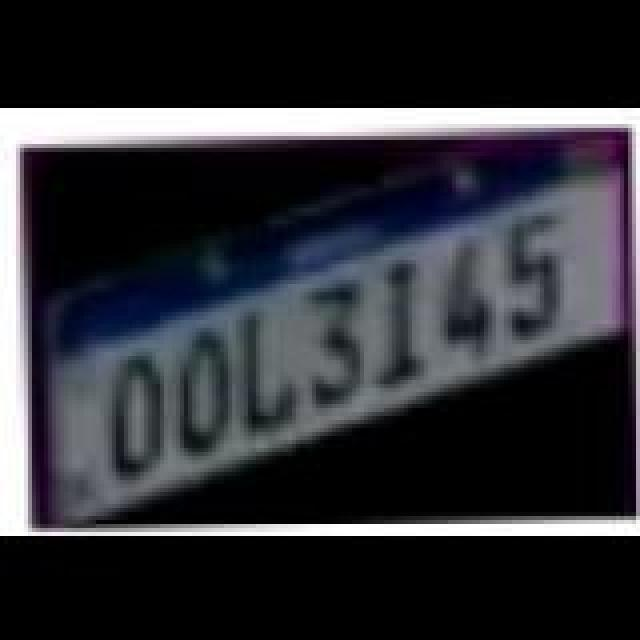3: (284, 278, 380, 410)
4: (424, 238, 512, 362)
5: (494, 208, 578, 336)
I: (362, 260, 446, 388)
L: (220, 304, 316, 432)
O: (92, 350, 188, 482), (154, 322, 246, 454)
